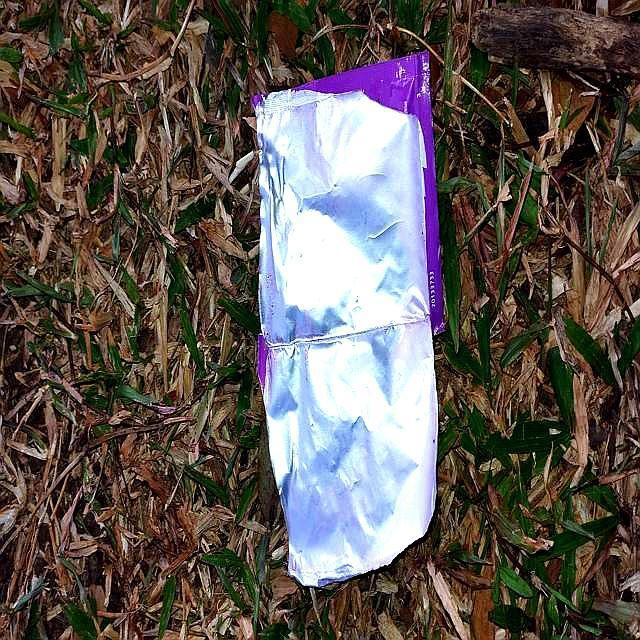Non-biodegradable: (250, 51, 447, 589)
